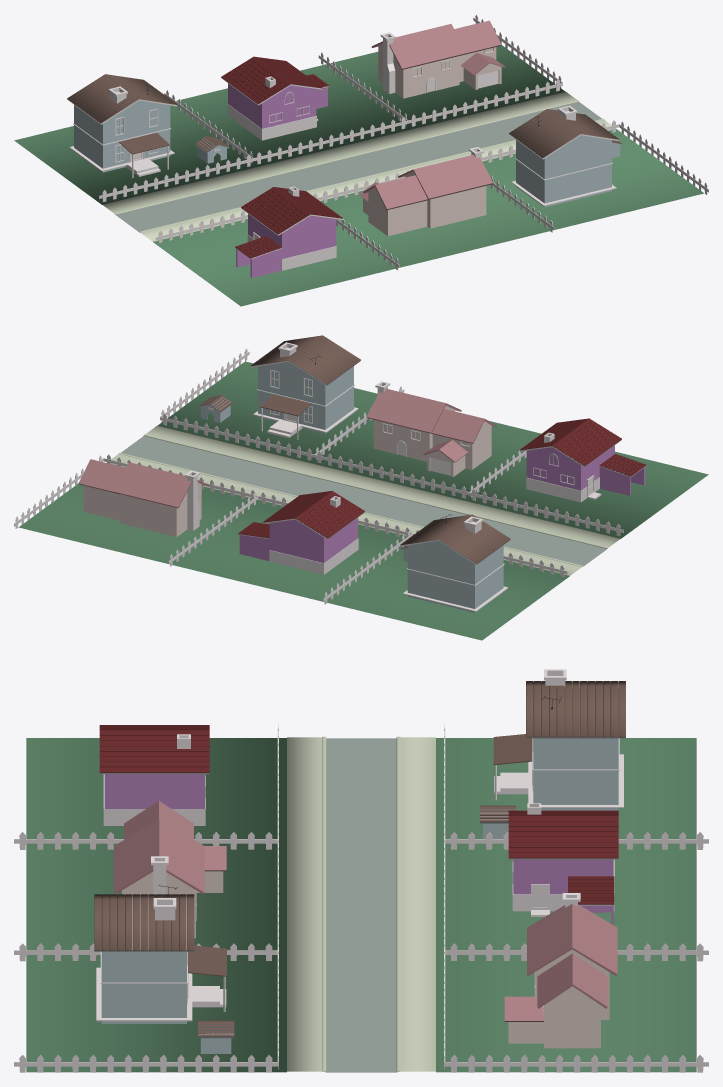
The model's file is PAPA.fbx.
The picture shows the model from 3 angles, top to bottom: view 1: azimuth 30°, elevation 25°; view 2: azimuth 150°, elevation 25°; view 3: azimuth 270°, elevation 25°; orthographic projection. The views are drawn at different scales.
Visible parts, largest first — view 1: Plane; view 2: Plane; view 3: Plane.
Part boxes in pixels (x1=…): Plane: x1=14, y1=14, x2=708, y2=306; Plane: x1=14, y1=335, x2=708, y2=640; Plane: x1=14, y1=669, x2=708, y2=1072.
Bounding box in the file's own units: 2356 × 357 × 2067.
